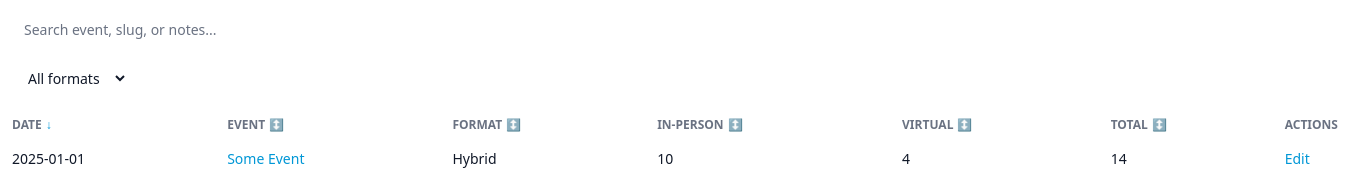
AttendanceTable › shows a no-match message when the search matches nothing
Type "nonexistent" into the field with placeholder "Search event, slug, or notes..." at (172, 30), box [12, 12, 332, 48]
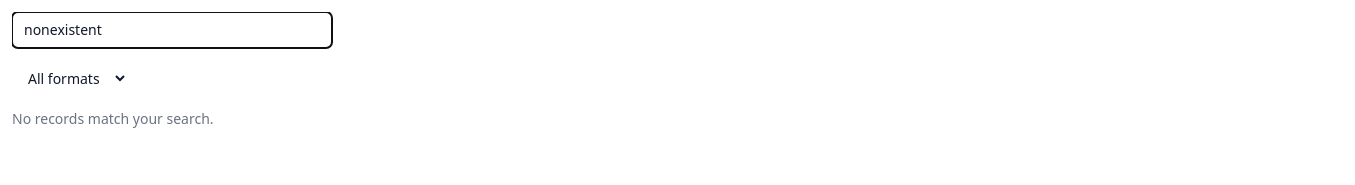
expect the text "No records match your search." is shown: met, box [12, 109, 214, 128]
